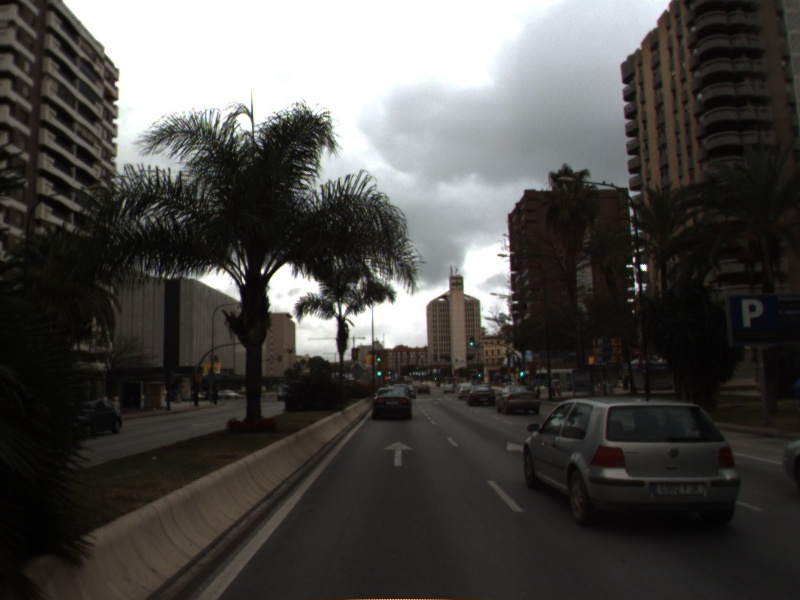STRAIGHT: (381, 439, 416, 468)
